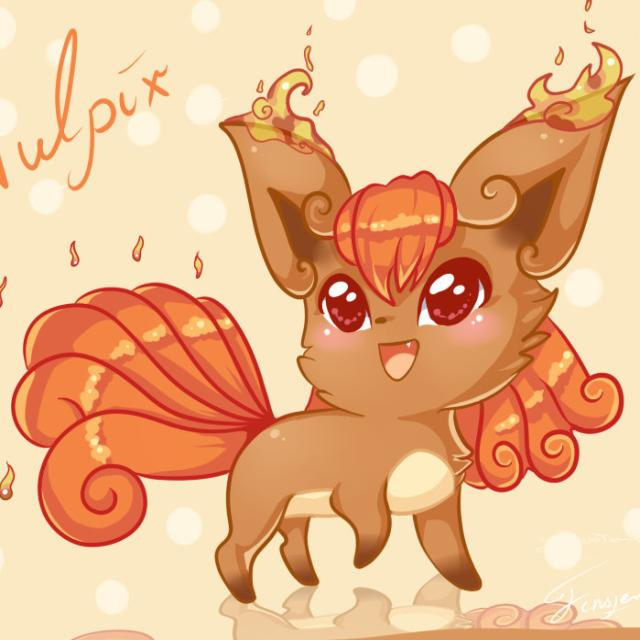Vulpix: (214, 174, 552, 590)
